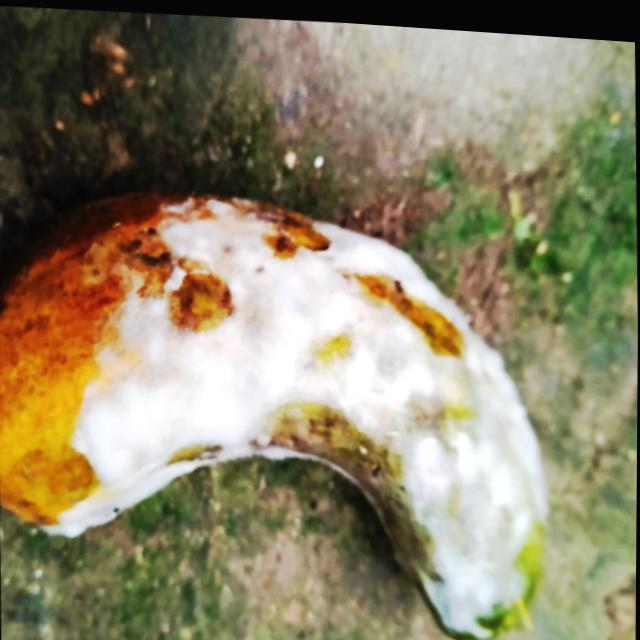Pythium-Fruit-Rot: (35, 171, 555, 640)
